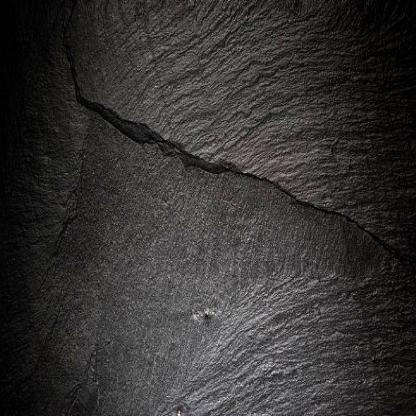Sedimentary_Sandstone: (0, 2, 416, 415)
